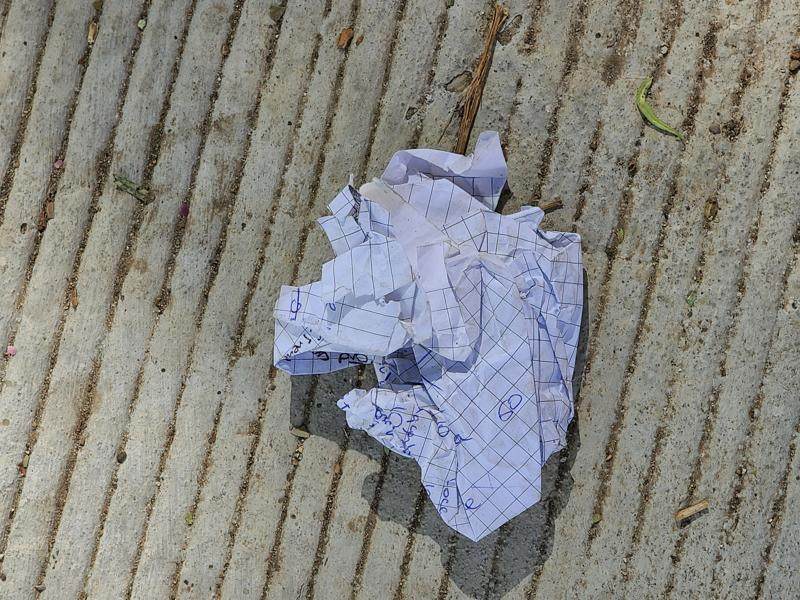papel: (272, 132, 587, 546)
